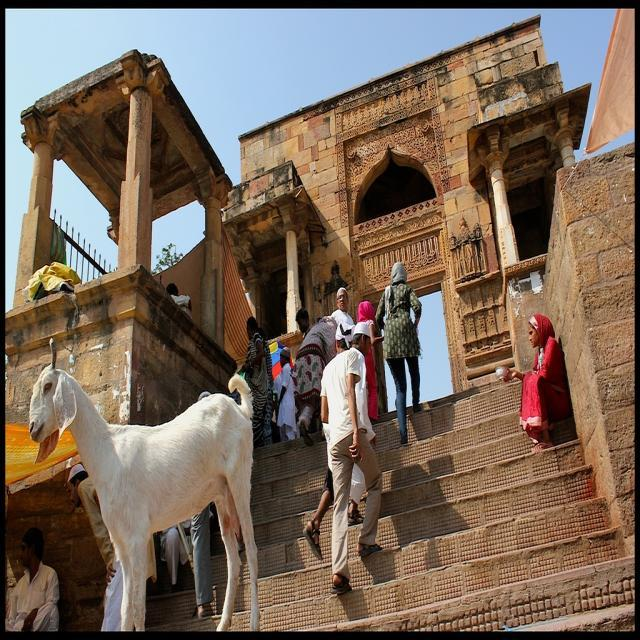Goat: (28, 335, 261, 632)
